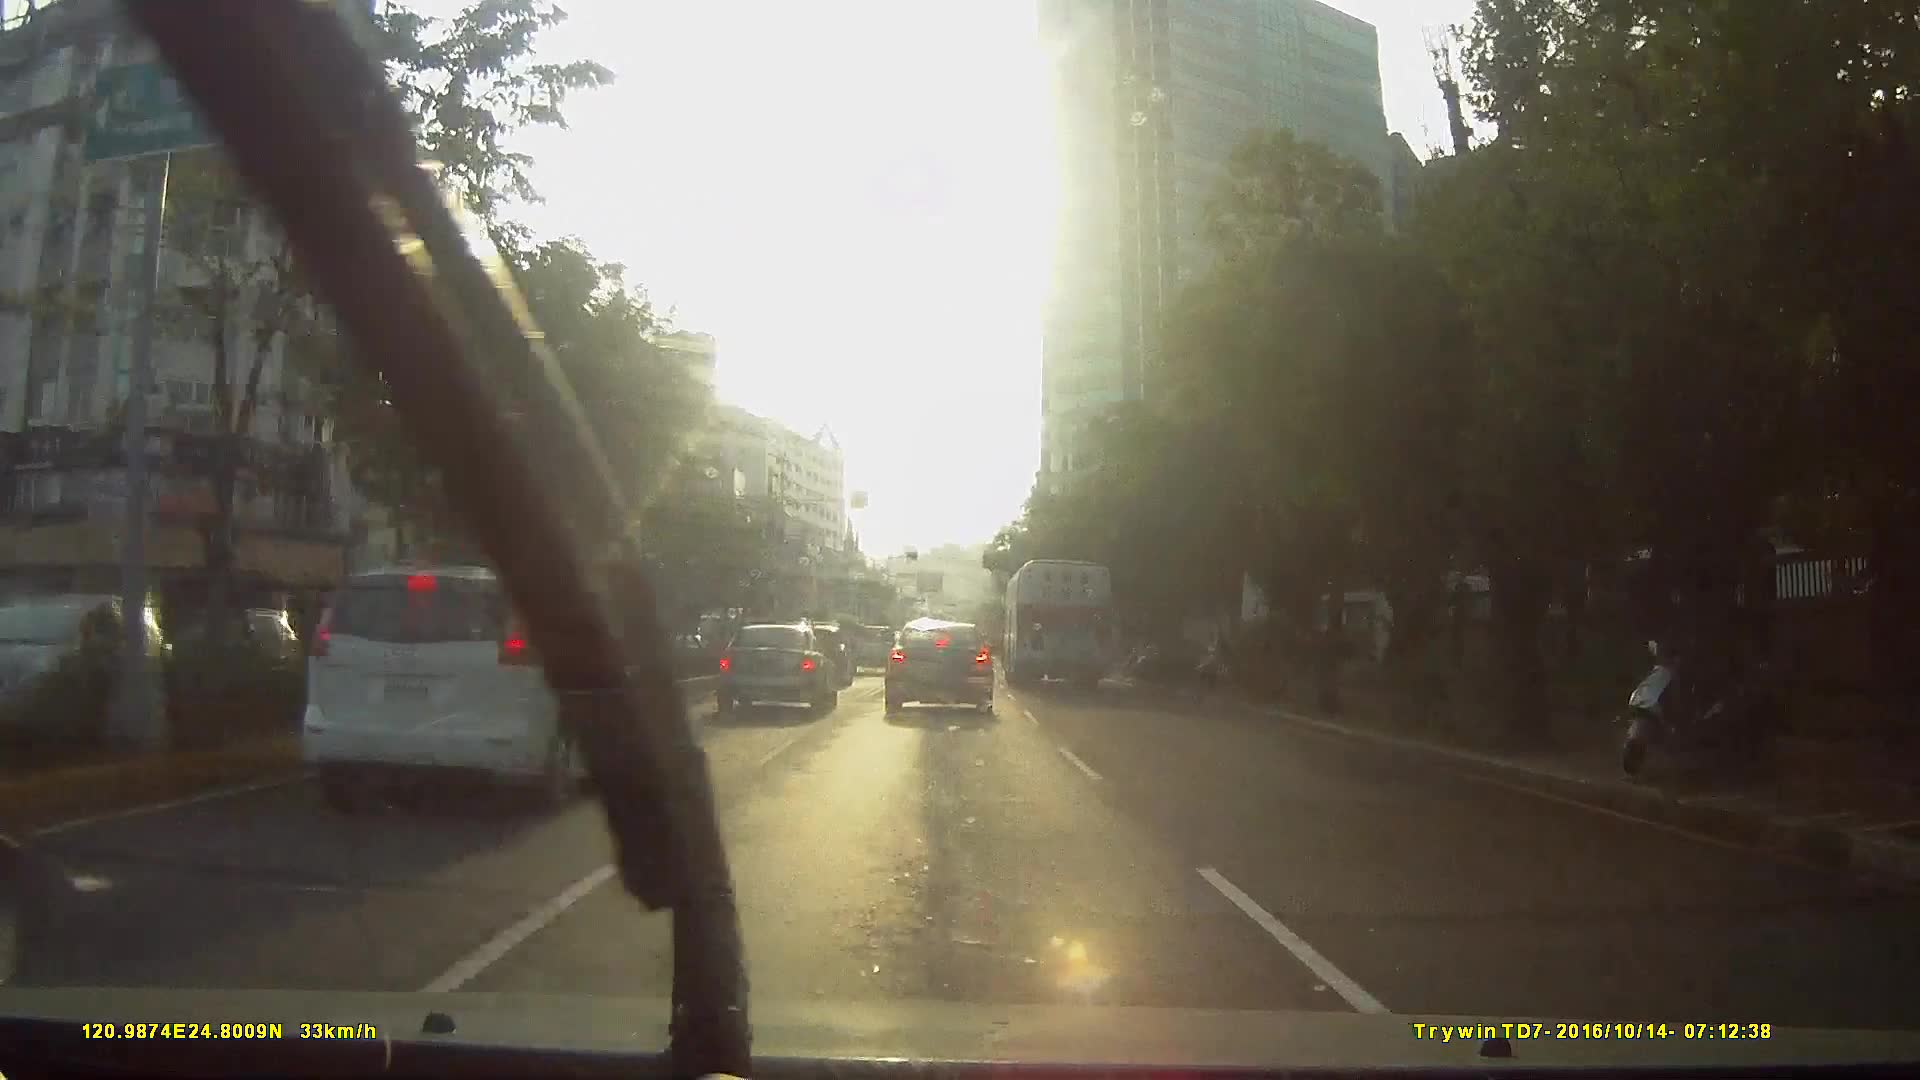vehicle: (251, 556, 684, 868), (290, 556, 641, 816), (1, 592, 196, 745), (1006, 553, 1116, 684), (713, 621, 837, 717), (884, 615, 996, 720), (848, 621, 898, 671)
